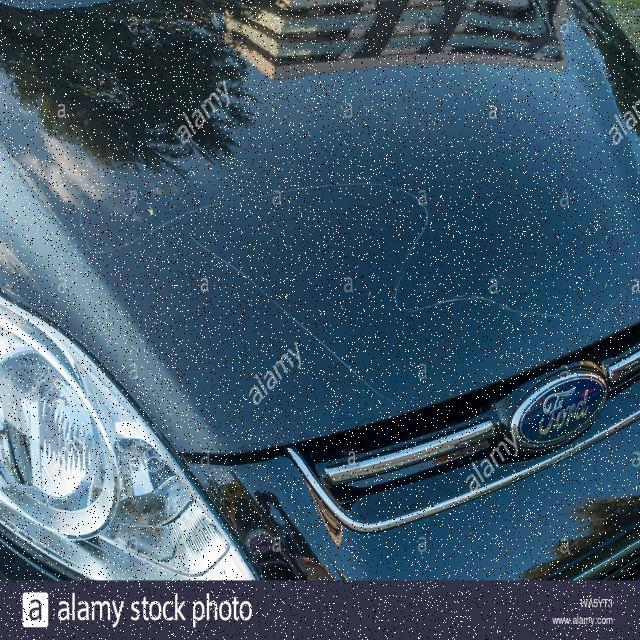bonnet-dent: (11, 49, 640, 472)
